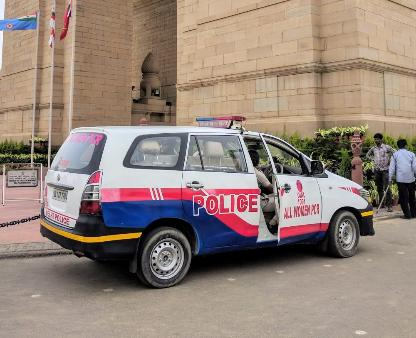priority: (39, 106, 387, 288)
